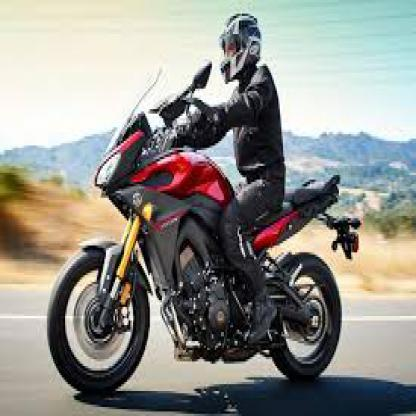Motorcycle: (43, 99, 353, 395)
